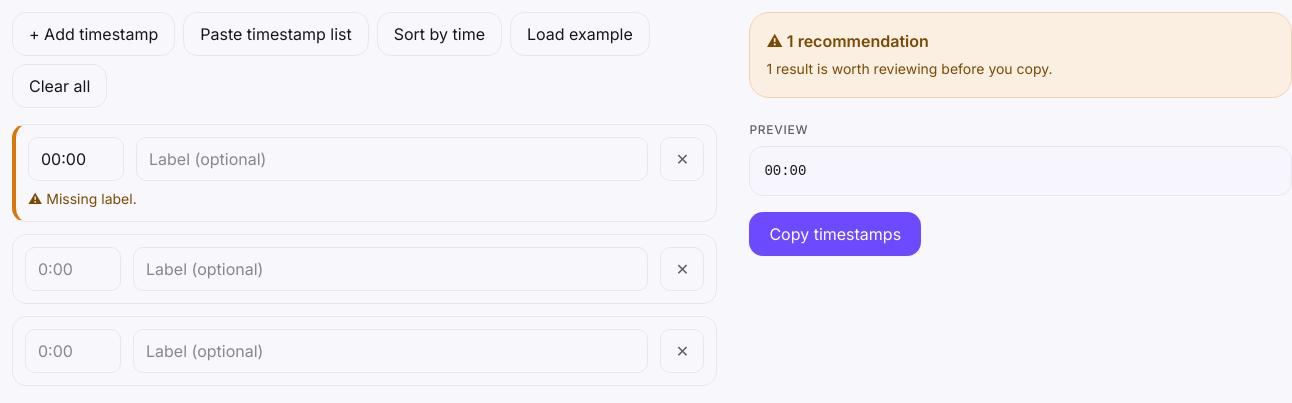
YoutubeTimestampGenerator › normalizes a raw timestamp in the preview output
The image size is (1292, 403).
Type "Introduction" into the 1st field with placeholder "Label (optional)". click: (392,159)
box: 136,137 -> 648,181
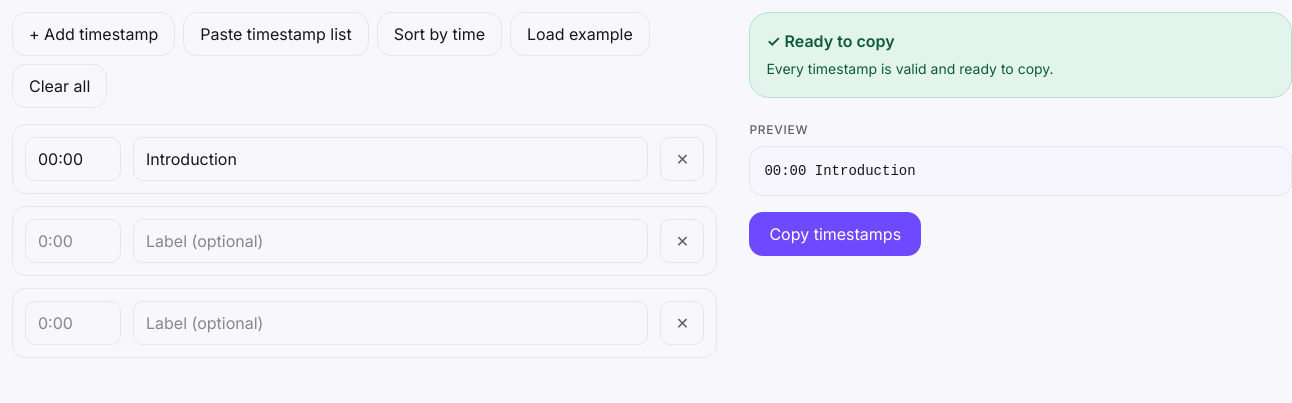
Expected: the text "00:00 Introduction" is shown, 749,146 -> 1291,196
